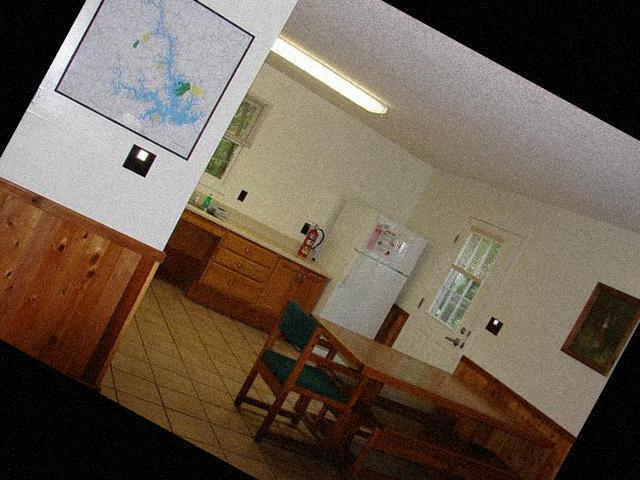Lavaplatos: (158, 174, 232, 229)
